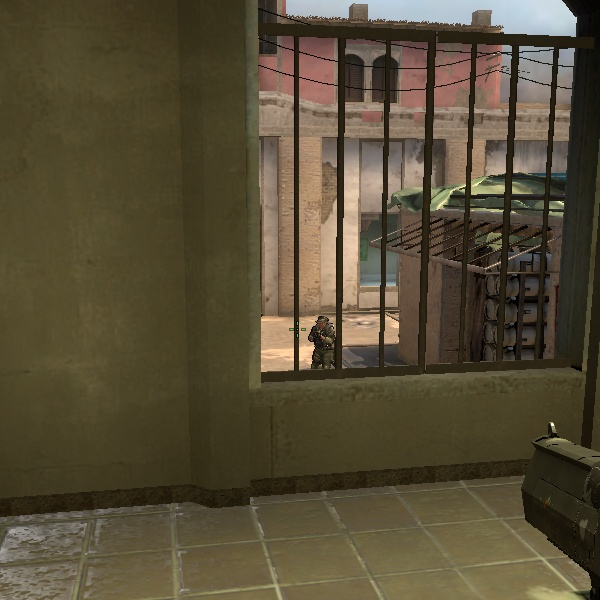t_body: (297, 310, 345, 369)
